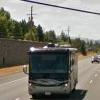Bus: (23, 40, 81, 100)
